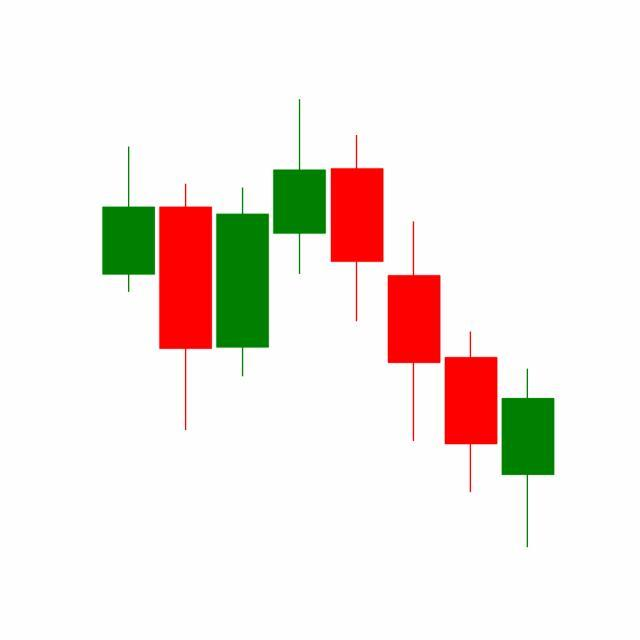Hikkake Pattern: (214, 99, 501, 498)
